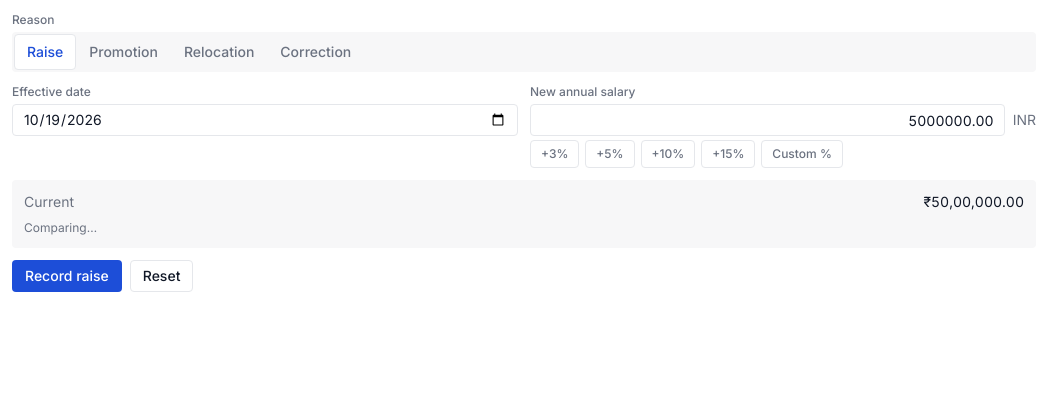
it: SalaryChangeForm › refuses an amount above the largest the system stores
Step 1. Replace the text in the field labelled "New annual salary" with "900000000.01" → (767, 120), box [530,104,1005,136]
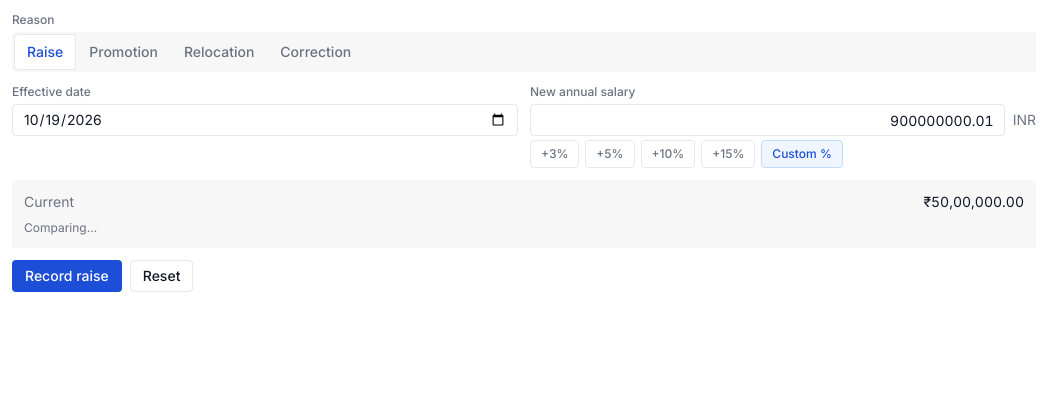
Step 2. Click the button "Record raise" → (67, 276), box [12,260,122,292]
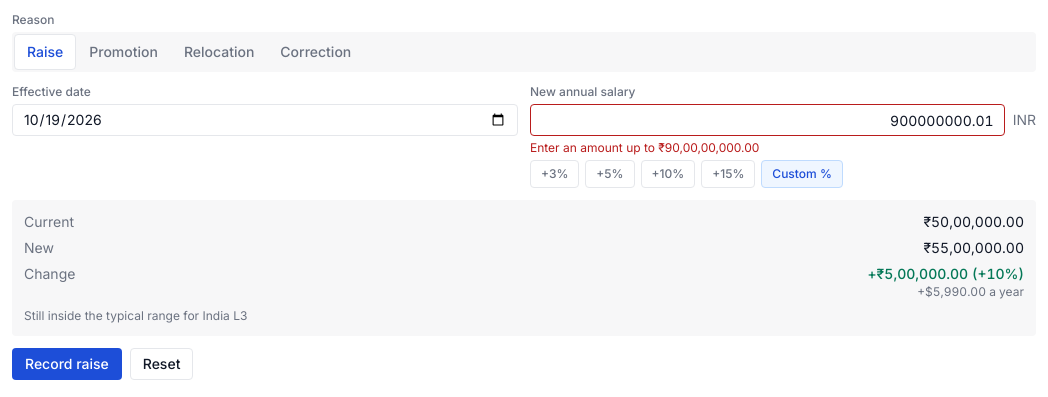
Expected: the text "Enter an amount up to ₹90,00,00,000.00" is shown, [530,140,759,155]
